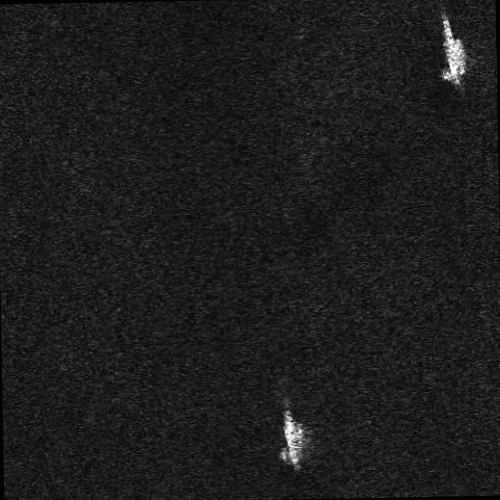ship: (441, 15, 467, 87), (280, 409, 304, 471)
